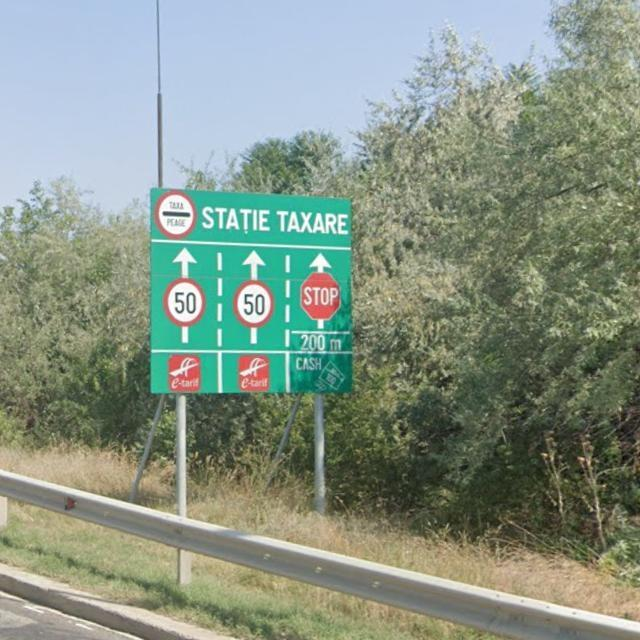forb_speed_over_50: (163, 278, 206, 327), (234, 280, 274, 329)
prio_stop: (299, 272, 341, 320)
